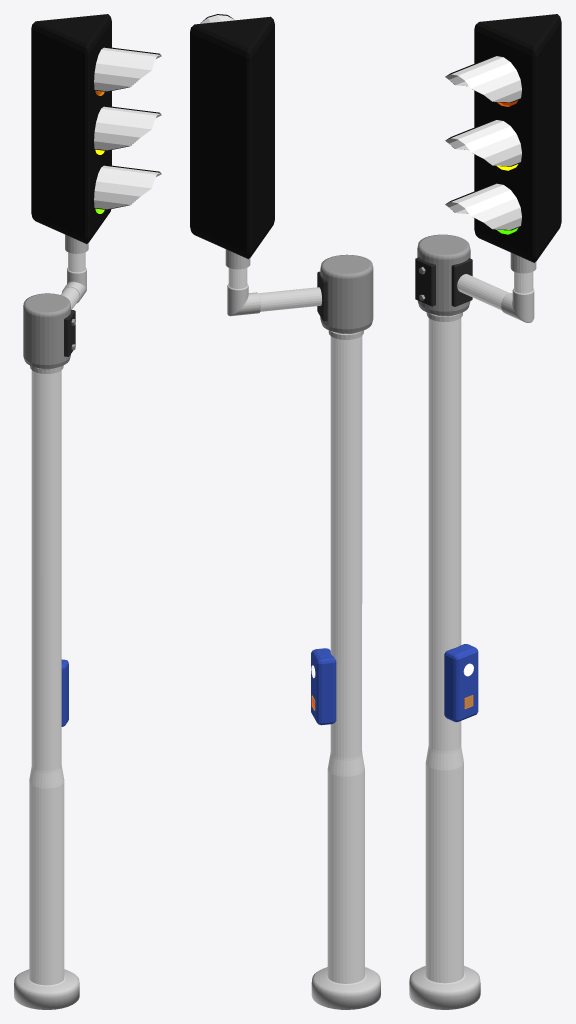
File: lightpost.glb
3 views of the same model, side by side, from view 1: azimuth 30°, elevation 25°; view 2: azimuth 150°, elevation 25°; view 3: azimuth 270°, elevation 25° (orthographic). The views are drawn at different scales.
Parts seen in each view (by area): view 1: object 16, object 13, object 15, object 9, fundament_9, object 17, knapp_10, detalj1_7, adapter-krok_6; view 2: object 16, object 13, object 9, fundament_9, knapp_10, object 17, adapter-krok_6; view 3: object 16, object 13, object 15, object 9, knapp_10, fundament_9, detalj1_7, object 17, adapter-krok_6, adapter_5.
Boxes of the visible parts, x1,y1,x2,y2 form: object 16: [27, 370, 65, 986]; object 13: [31, 14, 111, 243]; object 15: [93, 46, 161, 209]; object 9: [23, 293, 70, 369]; fundament_9: [14, 969, 79, 1009]; object 17: [61, 252, 85, 309]; knapp_10: [61, 659, 68, 726]; detalj1_7: [64, 310, 75, 356]; adapter-krok_6: [62, 267, 86, 303]; object 16: [326, 336, 366, 985]; object 13: [190, 16, 274, 258]; object 9: [320, 254, 373, 333]; fundament_9: [311, 967, 380, 1009]; knapp_10: [311, 648, 336, 725]; object 17: [228, 268, 322, 311]; adapter-krok_6: [227, 284, 260, 316]; object 16: [424, 318, 465, 984]; object 13: [474, 14, 561, 262]; object 15: [445, 55, 522, 230]; object 9: [417, 234, 470, 316]; knapp_10: [444, 644, 478, 722]; fundament_9: [409, 966, 480, 1009]; detalj1_7: [415, 257, 472, 306]; object 17: [457, 272, 533, 310]; adapter-krok_6: [501, 288, 534, 322]; adapter_5: [510, 252, 536, 273].
Bounding box in the file's own units: 3.77 × 21.47 × 2.96.
